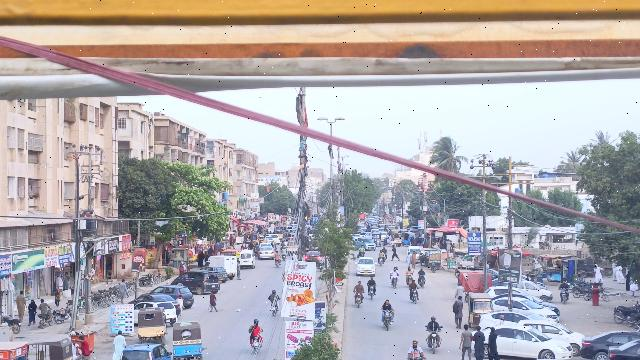Bike: (427, 328, 442, 356), (382, 308, 395, 332), (38, 312, 54, 328), (351, 291, 364, 309), (557, 288, 570, 306), (251, 336, 262, 355), (366, 284, 378, 301), (409, 287, 419, 306), (269, 303, 280, 318), (417, 275, 427, 289), (391, 276, 400, 291), (406, 274, 413, 287)
Car: (497, 323, 573, 360), (582, 327, 633, 360), (173, 271, 224, 292), (120, 343, 171, 360), (354, 256, 377, 276)
Person: (457, 323, 474, 360), (472, 325, 486, 360), (112, 330, 126, 360), (452, 293, 464, 328), (486, 326, 498, 360), (24, 299, 37, 328), (15, 288, 26, 319), (248, 317, 265, 337), (76, 336, 90, 360), (407, 339, 424, 358), (207, 289, 219, 314), (380, 298, 396, 316), (426, 313, 441, 331), (267, 288, 282, 304), (176, 294, 186, 314), (38, 297, 50, 312), (353, 280, 365, 293), (455, 282, 465, 297), (558, 278, 570, 290), (367, 274, 378, 287), (408, 278, 419, 290), (404, 265, 415, 276), (389, 266, 400, 276), (417, 266, 427, 277)
Rickshaw: (170, 319, 206, 360), (465, 292, 494, 328), (138, 308, 170, 339)
Truck: (209, 254, 238, 276)
